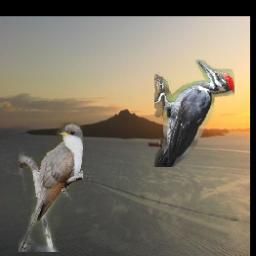Cuckoo: (19, 122, 83, 252)
Woodpecker: (154, 60, 235, 167)
